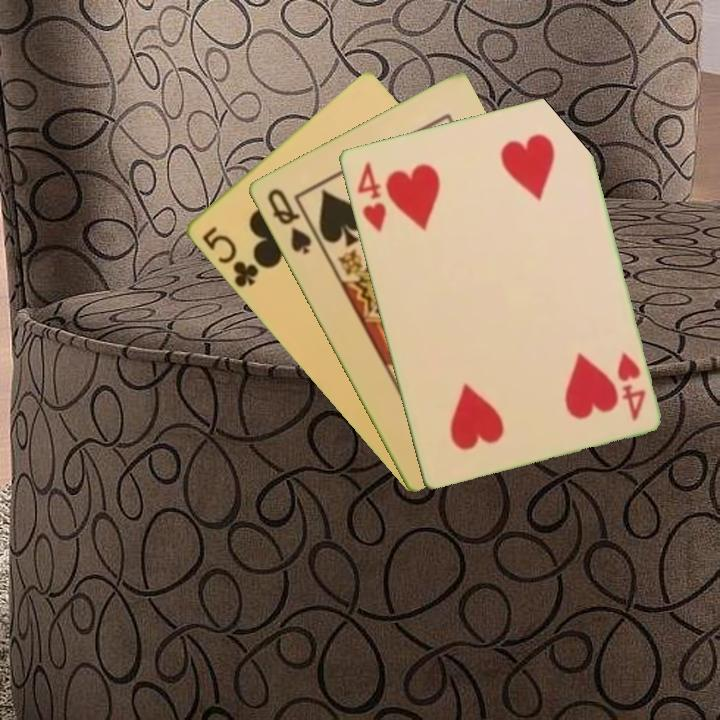4h: (353, 157, 389, 236), (613, 349, 648, 423)
5c: (198, 222, 261, 290)
Qs: (263, 185, 314, 258)
